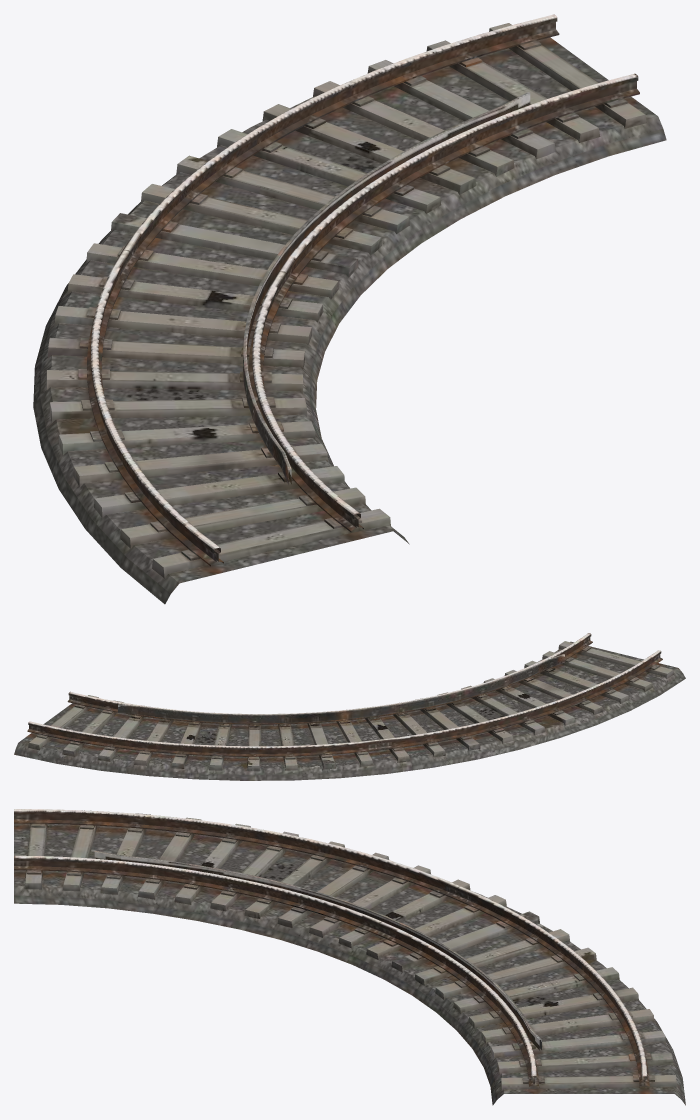
Rendered from trilho_curva.glb.
The picture shows the model from 3 angles, top to bottom: view 1: azimuth 30°, elevation 25°; view 2: azimuth 150°, elevation 25°; view 3: azimuth 270°, elevation 25°; orthographic projection. The views are drawn at different scales.
Visible parts, largest first — view 1: trilho_curva_corpo; view 2: trilho_curva_corpo; view 3: trilho_curva_corpo.
Boxes of the visible parts, x1,y1,x2,y2 form: trilho_curva_corpo: (33, 14, 666, 604); trilho_curva_corpo: (14, 633, 685, 780); trilho_curva_corpo: (14, 809, 685, 1105).
Bounding box in the file's own units: 2.92 × 0.1644 × 2.92.
Materials: 1 (1 with a texture image).
